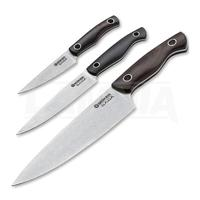knife: (8, 15, 187, 190)
